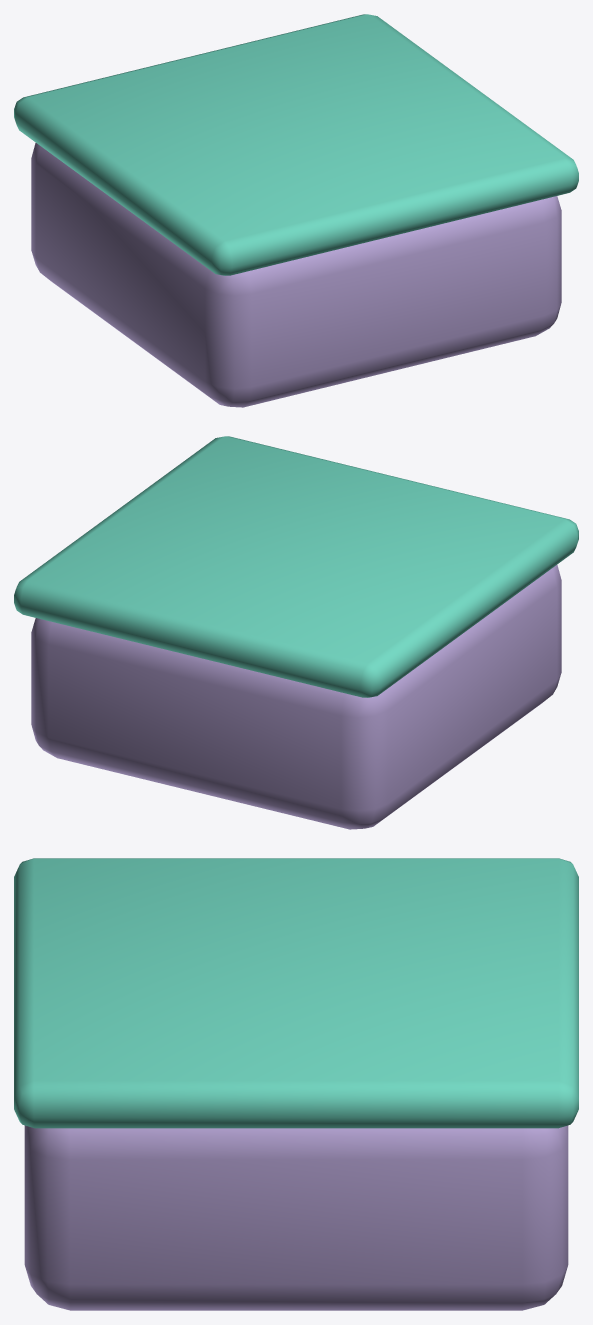
Rendered from PastelRockPlatform.fbx.
The picture shows the model from 3 angles, top to bottom: view 1: azimuth 30°, elevation 25°; view 2: azimuth 150°, elevation 25°; view 3: azimuth 270°, elevation 25°; orthographic projection. The views are drawn at different scales.
Visible parts, largest first — view 1: PastelRockPlatform; view 2: PastelRockPlatform; view 3: PastelRockPlatform.
Part boxes in pixels (bbox=[...]): PastelRockPlatform: bbox=[14, 14, 578, 407]; PastelRockPlatform: bbox=[14, 436, 578, 829]; PastelRockPlatform: bbox=[14, 858, 578, 1310].
Size of the model in its own units: 395 by 395 by 186.
Materials: 1 (1 with a texture image).
